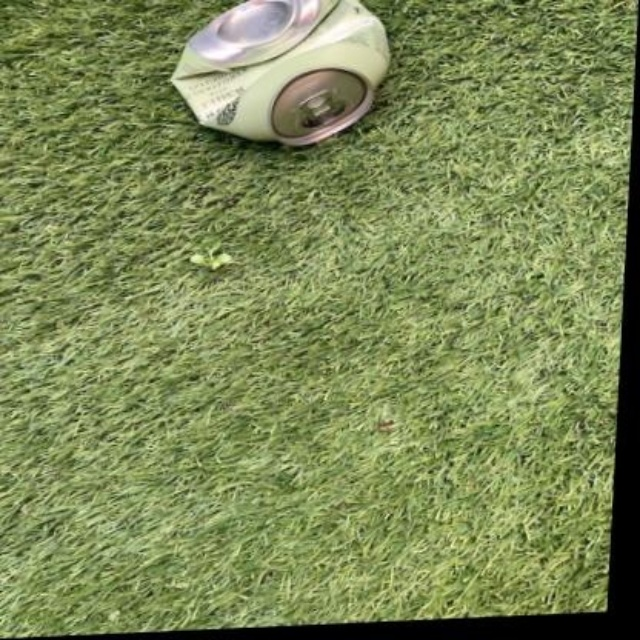trash: (172, 0, 388, 145)
